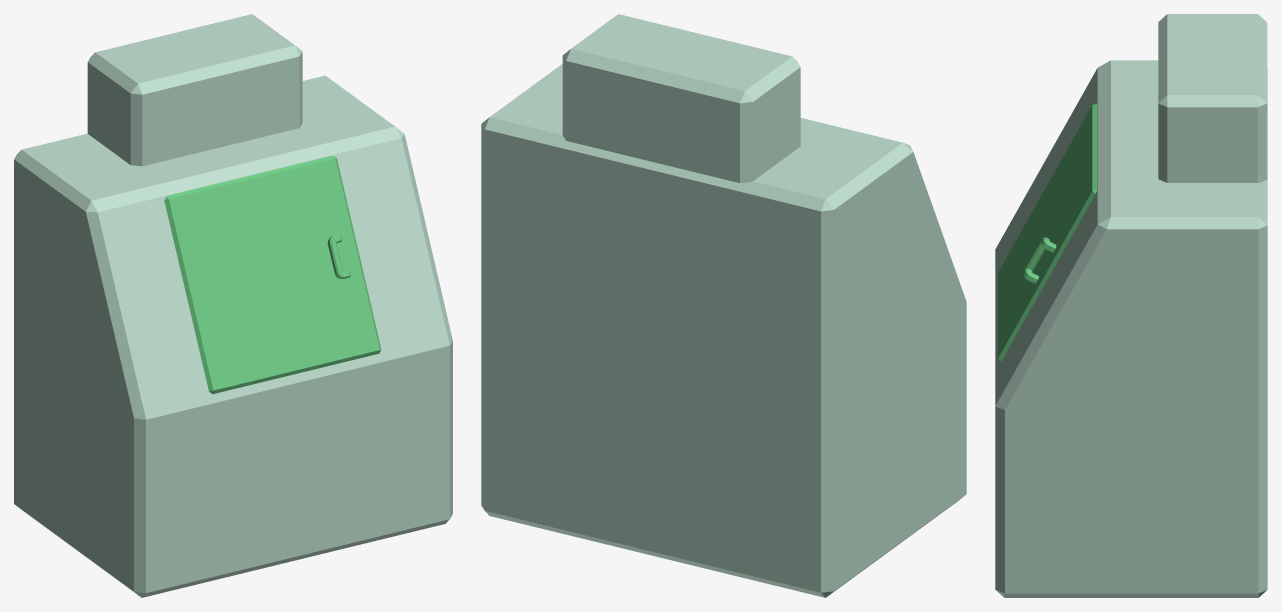
File: ice_freezer_edited.fbx
3 views of the same model, side by side, from view 1: azimuth 30°, elevation 25°; view 2: azimuth 150°, elevation 25°; view 3: azimuth 270°, elevation 25° (orthographic). The views are drawn at different scales.
Parts seen in each view (by area): view 1: Freezer, Door, Power_Cooler; view 2: Freezer, Power_Cooler; view 3: Freezer, Power_Cooler, Door, Handle.
Boxes of the visible parts, x1,y1,x2,y2 form: Freezer: (14, 75, 452, 597); Door: (164, 155, 381, 393); Power_Cooler: (87, 14, 302, 166); Freezer: (481, 64, 966, 597); Power_Cooler: (562, 14, 800, 183); Freezer: (995, 60, 1267, 597); Power_Cooler: (1158, 14, 1267, 182); Door: (998, 103, 1097, 362); Handle: (1023, 237, 1056, 283).
Size of the model in its own units: 127 by 167 by 88.9.
